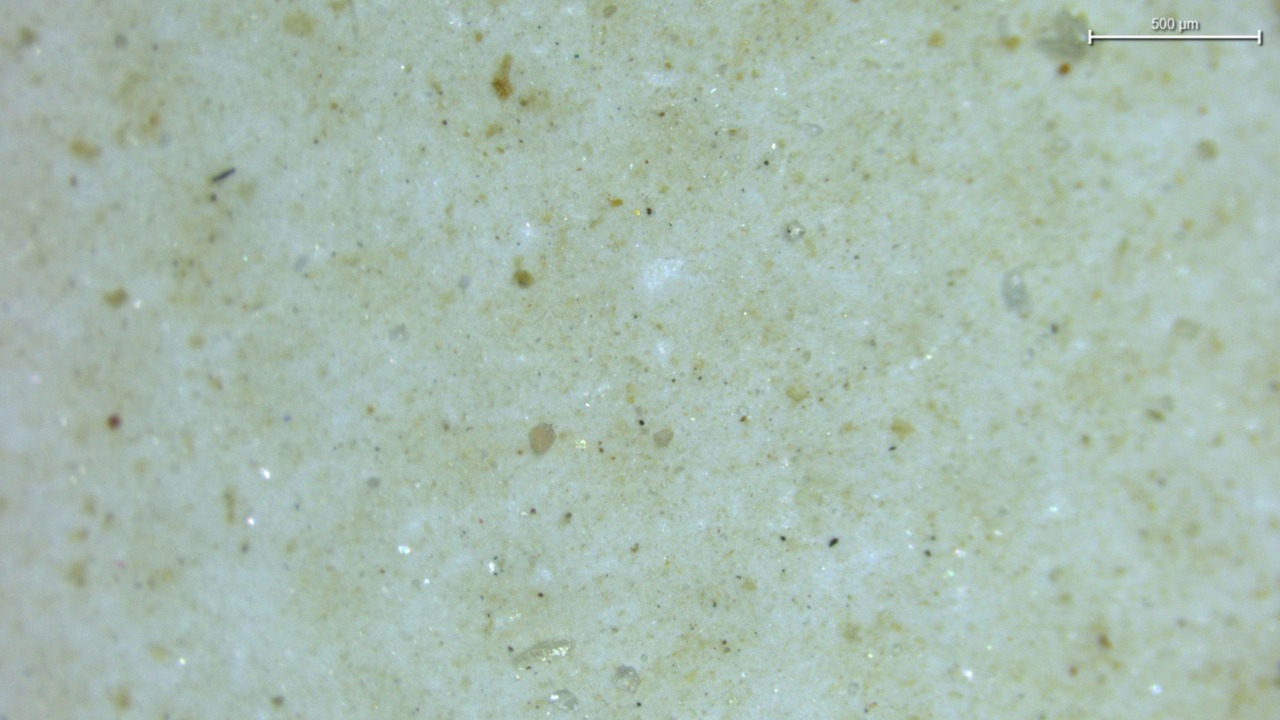microplastic_fragment: (529, 423, 556, 455)
